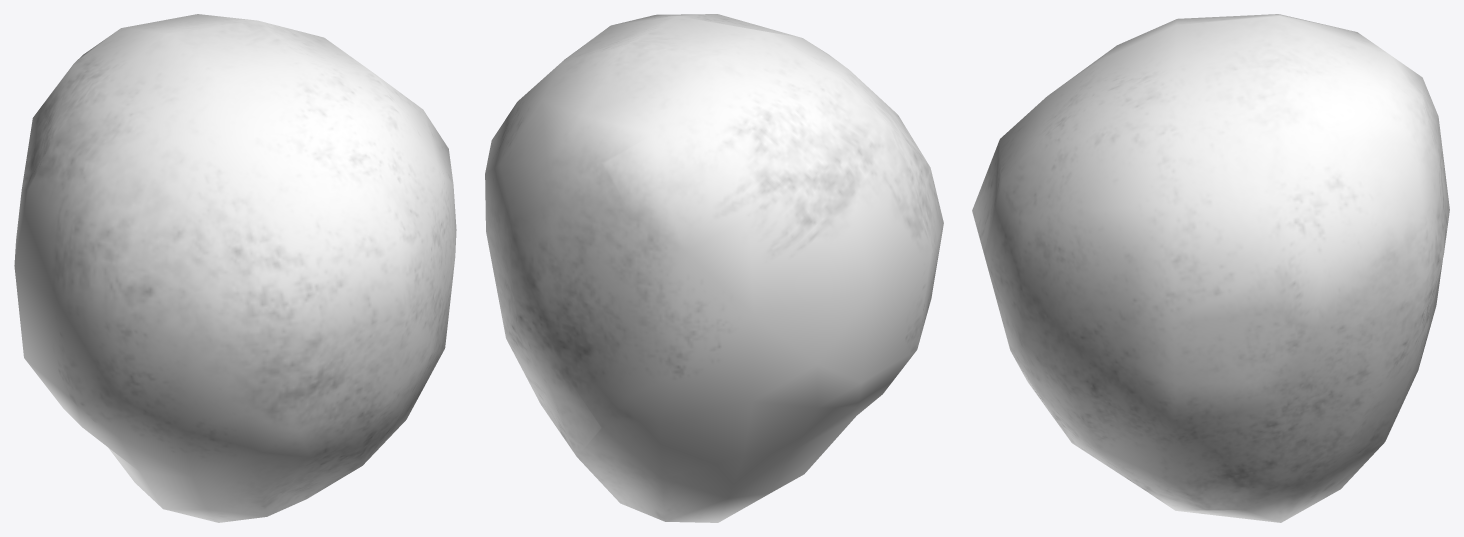
File: SM_RefinedMetal_2b.fbx
3 views of the same model, side by side, from view 1: azimuth 30°, elevation 25°; view 2: azimuth 150°, elevation 25°; view 3: azimuth 270°, elevation 25° (orthographic).
Parts seen in each view (by area): view 1: RefinedMetal_2b; view 2: RefinedMetal_2b; view 3: RefinedMetal_2b.
Part boxes in pixels (x1,y1,x2,y2): RefinedMetal_2b: (14,14,456,522); RefinedMetal_2b: (485,14,943,522); RefinedMetal_2b: (972,14,1449,522).
Bounding box in the file's own units: 0.4183 × 0.4657 × 0.4361.
